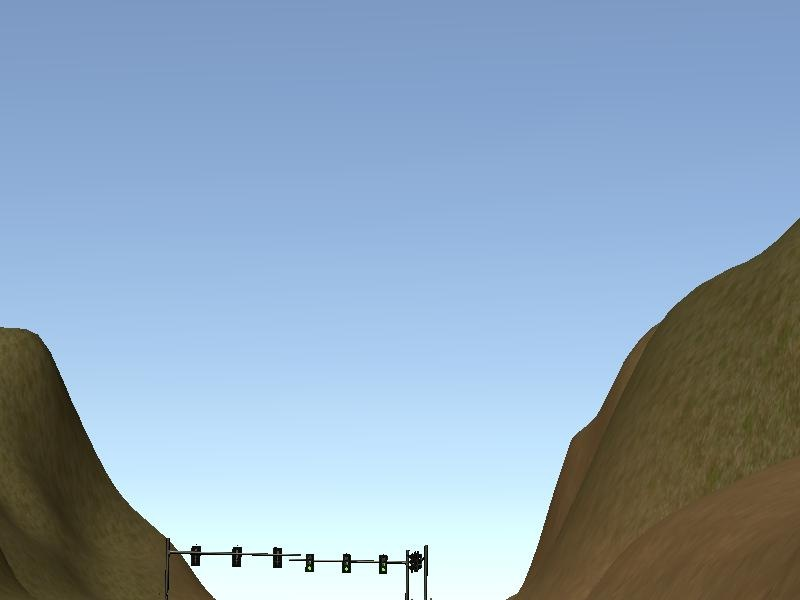green: (341, 554, 351, 574), (378, 555, 387, 576), (304, 555, 314, 573)
